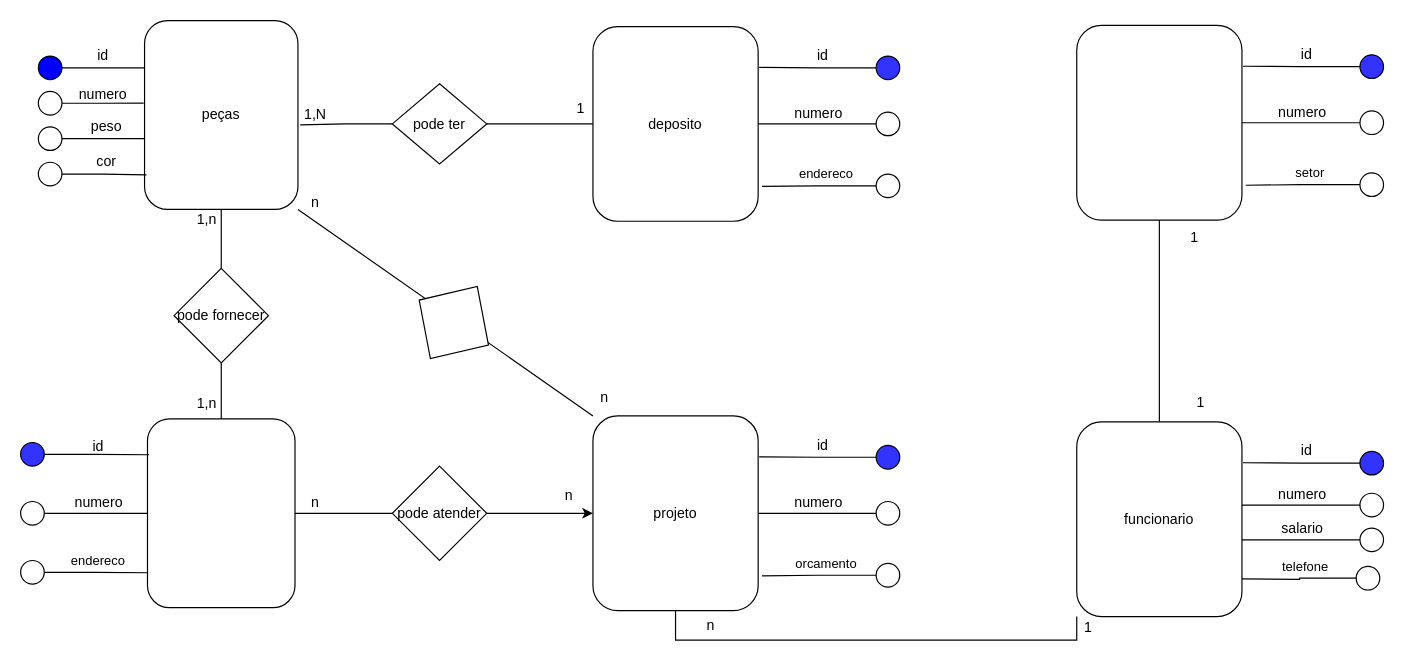
The diagram is 1404 pixels wide and 667 high, and some of its shapes have lost their labels. The centre of each missing label's shape, as x and y in pixels:
"departamento" goes at (1159,122).
"fornecedor" goes at (220,513).
"pode utilizar" goes at (453,322).
